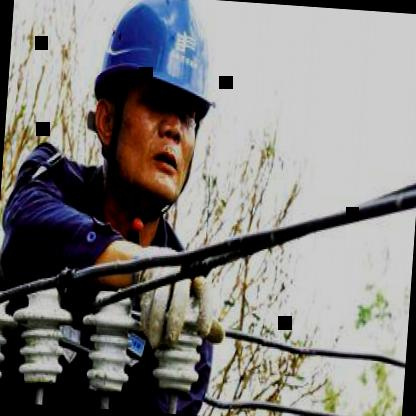helmet: (77, 0, 237, 223)
